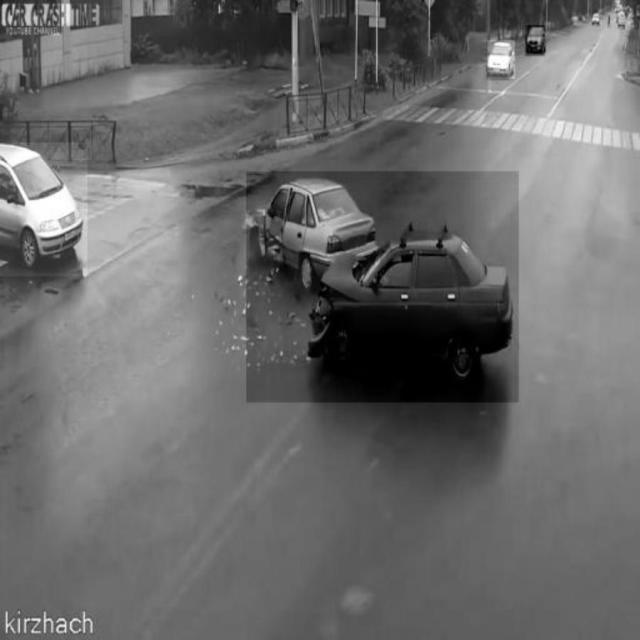accident: (246, 171, 518, 402)
vehicle: (0, 142, 88, 276), (488, 40, 515, 78), (525, 25, 545, 55)
